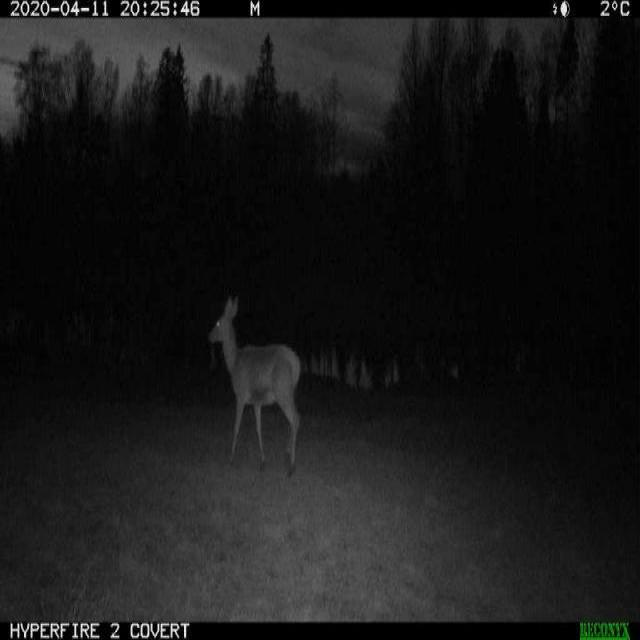deer: (198, 285, 314, 479)
